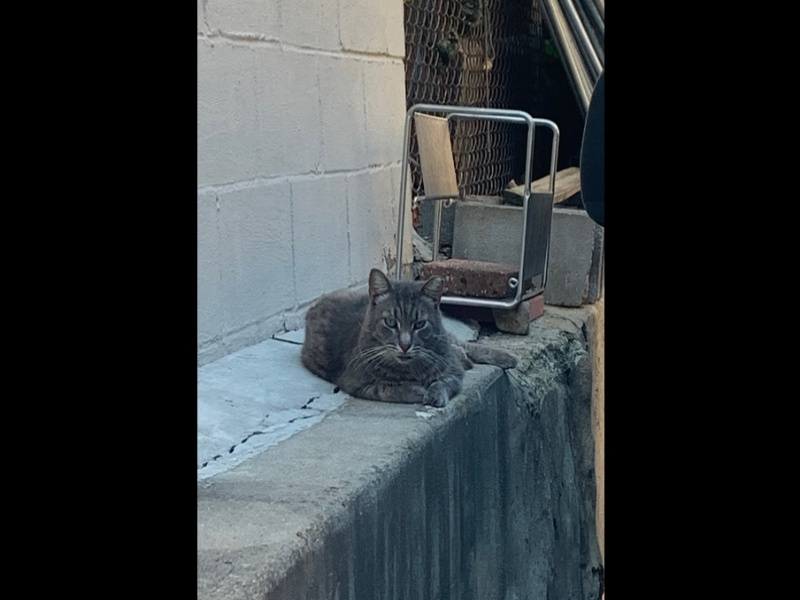cat: (296, 263, 520, 412)
